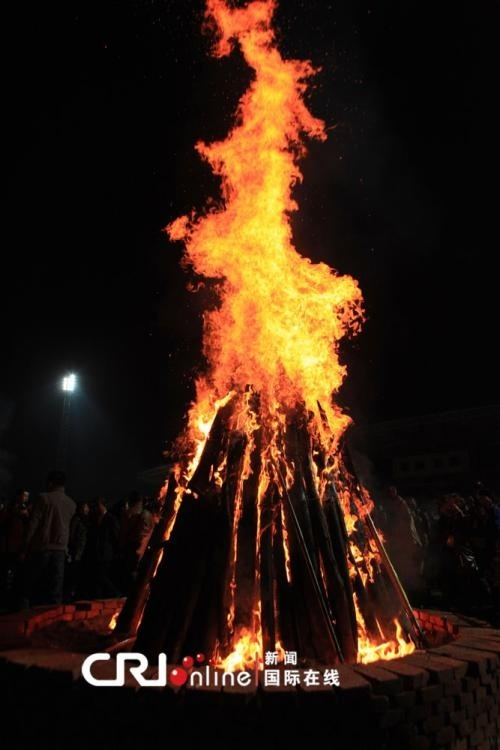fire: (167, 1, 375, 513)
